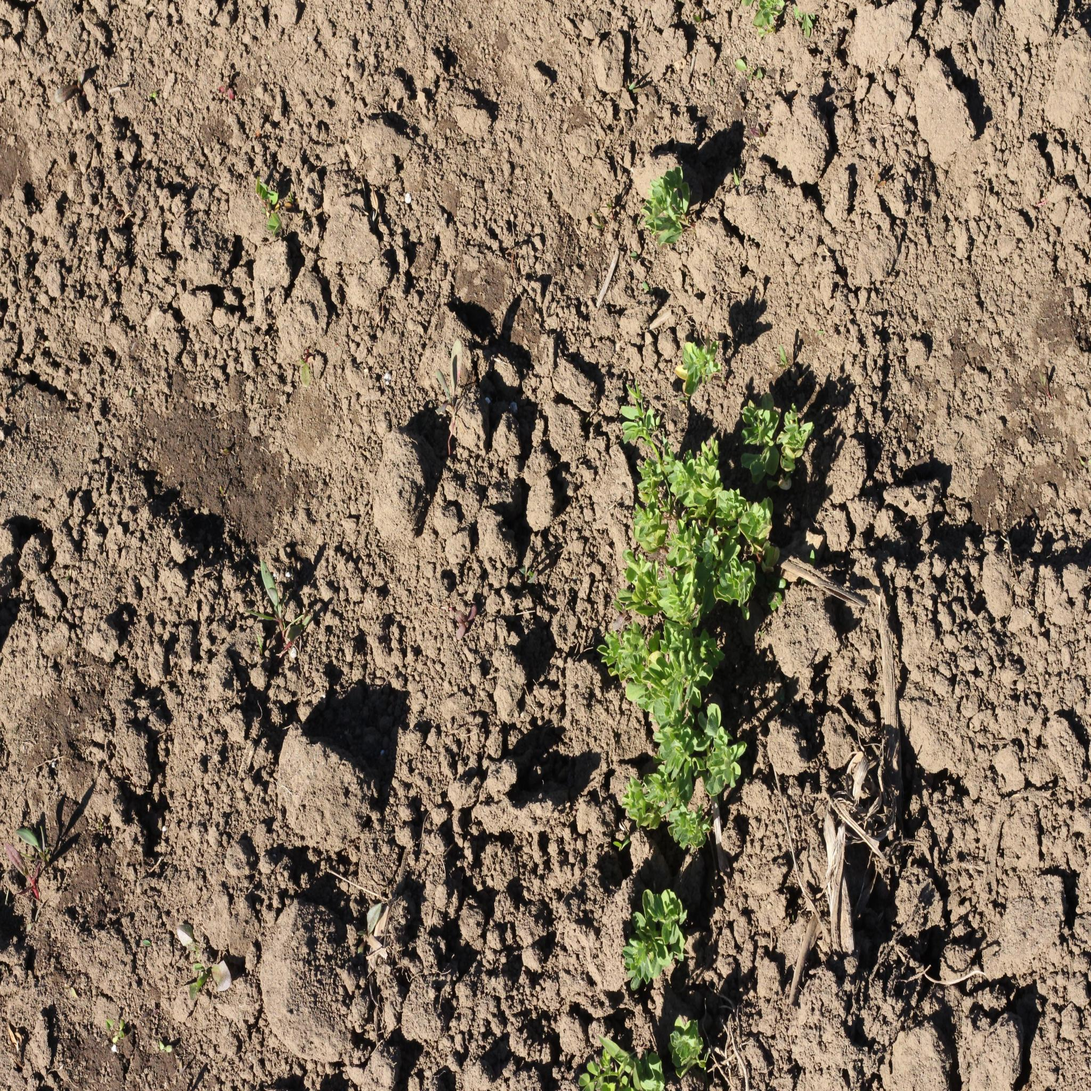LENCU: (647, 618, 707, 716), (640, 165, 692, 246), (639, 878, 690, 958), (669, 436, 722, 506), (655, 718, 703, 791), (597, 623, 651, 681), (702, 731, 749, 797), (623, 768, 673, 830), (624, 923, 663, 992), (666, 517, 716, 568), (656, 563, 699, 619), (669, 1011, 705, 1077), (713, 555, 755, 608), (622, 541, 652, 615), (781, 405, 814, 472), (668, 800, 708, 852), (683, 337, 722, 389), (632, 500, 669, 552), (740, 399, 779, 446), (740, 495, 774, 544), (635, 455, 664, 501), (716, 486, 745, 529), (751, 0, 787, 29)
POLAV: (246, 553, 309, 653), (434, 334, 465, 429), (14, 826, 53, 867), (516, 564, 537, 587), (588, 209, 609, 231), (777, 343, 792, 370), (1038, 370, 1052, 397), (623, 76, 641, 96), (605, 198, 616, 220)
POLPE: (353, 899, 389, 960), (4, 840, 40, 898), (53, 67, 86, 105), (454, 599, 477, 642), (297, 349, 312, 389), (610, 599, 628, 632), (748, 120, 771, 141), (216, 80, 234, 100), (870, 169, 887, 188)
